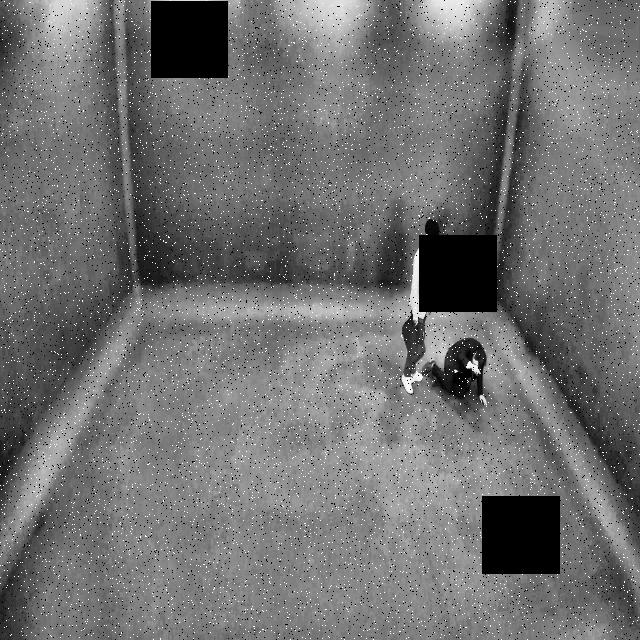assult: (400, 210, 495, 418), (418, 326, 490, 411)
